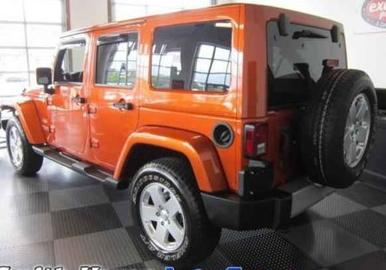back_view: (248, 27, 375, 226)
backlight: (242, 121, 272, 162)
side_glass: (45, 25, 238, 94)
